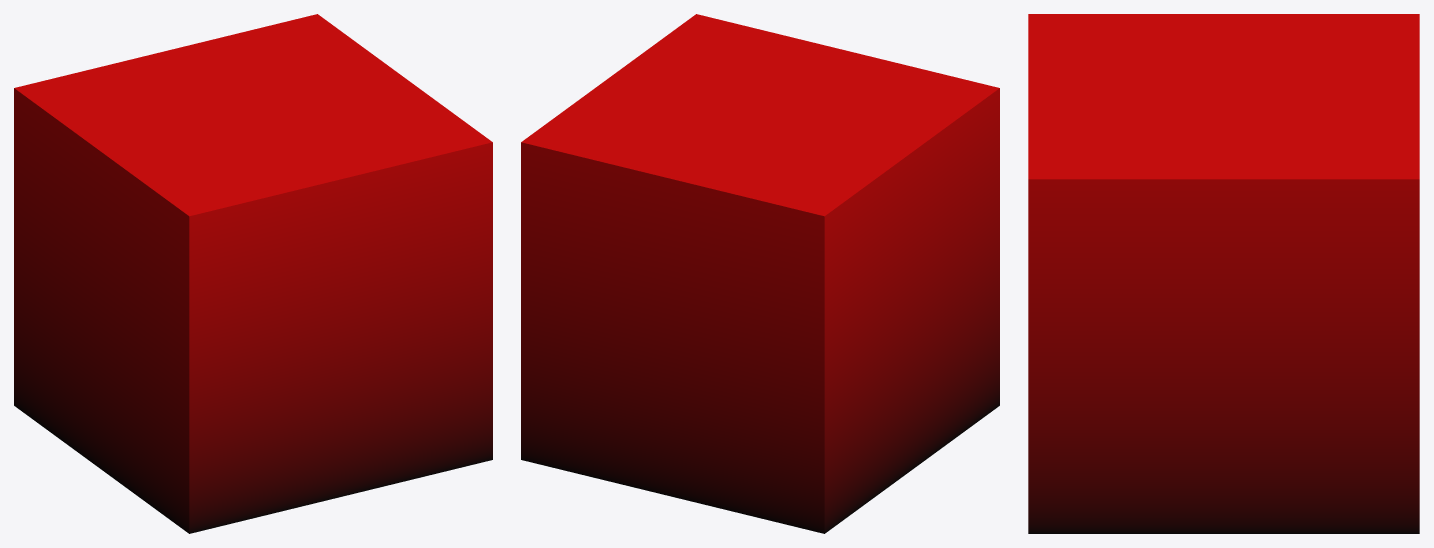
File: CubeDetailLevel3.FBX
3 renders of one model, left to right at view 1: azimuth 30°, elevation 25°; view 2: azimuth 150°, elevation 25°; view 3: azimuth 270°, elevation 25°, orthographic. The views are drawn at different scales.
Visible parts, largest first — view 1: Box002; view 2: Box002; view 3: Box002.
Boxes of the visible parts, bbox=[...] form: Box002: bbox=[14, 14, 492, 533]; Box002: bbox=[521, 14, 999, 533]; Box002: bbox=[1028, 14, 1419, 533].
Size of the model in its own units: 100 by 100 by 100.
